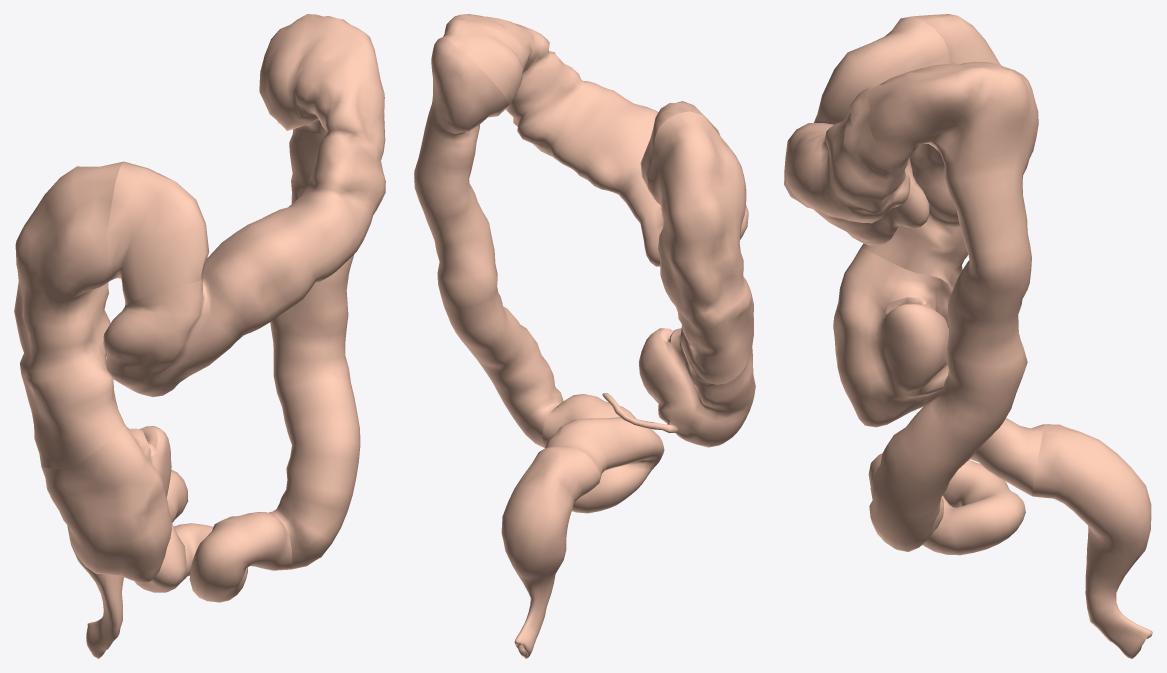
File: SBU_Intestine_Large.glb
3 renders of one model, left to right at view 1: azimuth 30°, elevation 25°; view 2: azimuth 150°, elevation 25°; view 3: azimuth 270°, elevation 25°, orthographic. The views are drawn at different scales.
Parts seen in each view (by area): view 1: VHM_transverse_colon, VHM_ascending_colon, VHM_descending_colon, VHM_caecum, VHM_hepatic_flexure_of_colon, VHM_splenic_flexure_of_colon, VHM_sigmoid_colon, VHM_rectum; view 2: VHM_descending_colon, VHM_ascending_colon, VHM_transverse_colon, VHM_rectum, VHM_sigmoid_colon, VHM_caecum, VHM_splenic_flexure_of_colon, VHM_hepatic_flexure_of_colon, VHM_vermiform_appendix; view 3: VHM_descending_colon, VHM_caecum, VHM_rectum, VHM_transverse_colon, VHM_sigmoid_colon, VHM_splenic_flexure_of_colon, VHM_ascending_colon, VHM_hepatic_flexure_of_colon.
Boxes of the visible parts, x1,y1,x2,y2 form: VHM_transverse_colon: (103,101,385,396); VHM_ascending_colon: (14,161,124,469); VHM_descending_colon: (259,19,360,569); VHM_caecum: (41,424,171,583); VHM_hepatic_flexure_of_colon: (107,161,209,301); VHM_splenic_flexure_of_colon: (260,14,384,128); VHM_sigmoid_colon: (134,469,292,602); VHM_rectum: (67,525,123,658); VHM_descending_colon: (414,38,563,447); VHM_ascending_colon: (648,111,753,384); VHM_transverse_colon: (505,30,748,266); VHM_rectum: (501,446,600,658); VHM_sigmoid_colon: (542,394,664,513); VHM_caecum: (638,328,755,447); VHM_splenic_flexure_of_colon: (439,14,535,105); VHM_hepatic_flexure_of_colon: (640,101,720,192); VHM_vermiform_appendix: (602,393,677,433); VHM_descending_colon: (869,70,1038,551); VHM_caecum: (833,247,952,427); VHM_rectum: (1032,424,1152,658); VHM_transverse_colon: (784,86,929,245); VHM_sigmoid_colon: (868,418,1043,555); VHM_splenic_flexure_of_colon: (867,61,1014,160); VHM_ascending_colon: (861,14,1000,290); VHM_hepatic_flexure_of_colon: (817,16,949,123).
Size of the model in its own units: 0.2591 by 0.4503 by 0.2248.
